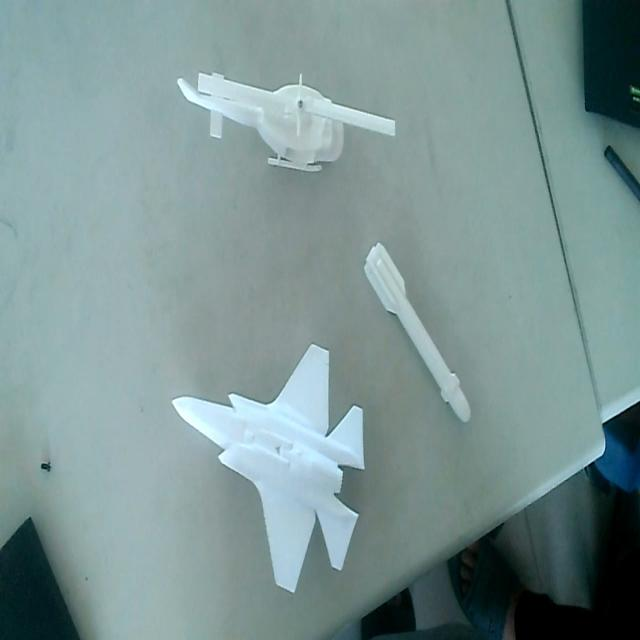Helicopter: (178, 66, 398, 182)
Jet: (167, 342, 365, 590)
Rocket: (364, 234, 474, 431)
